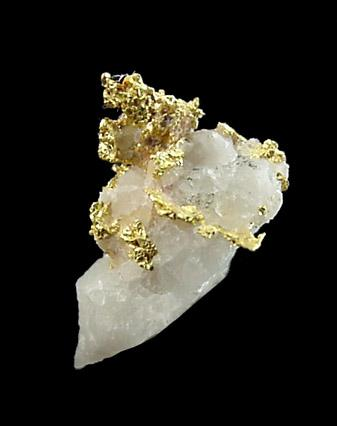gold: (99, 73, 204, 190), (146, 188, 262, 250), (90, 203, 158, 270), (216, 124, 286, 164)
